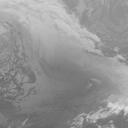cyclone: (28, 43, 89, 102)
